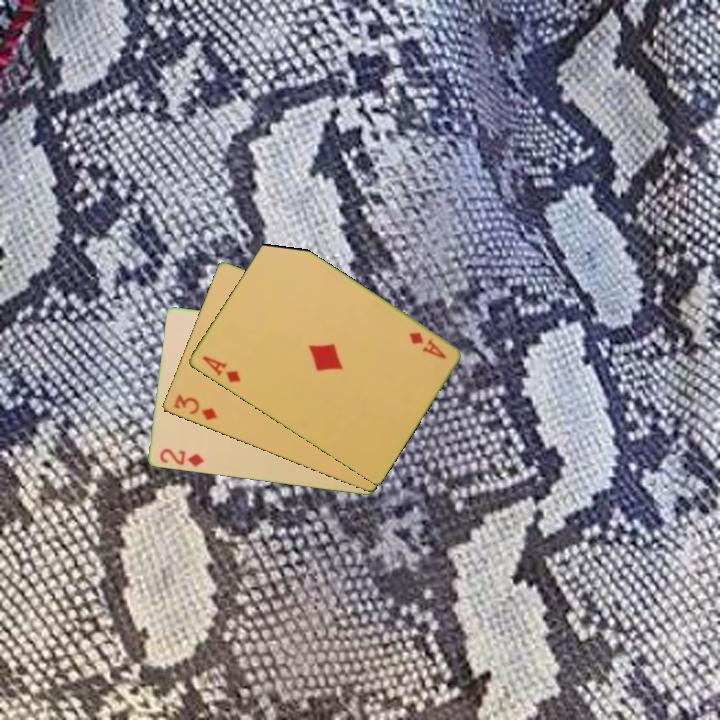2d: (156, 445, 207, 470)
3d: (170, 391, 220, 424)
Ad: (198, 352, 243, 386), (405, 329, 449, 362)
